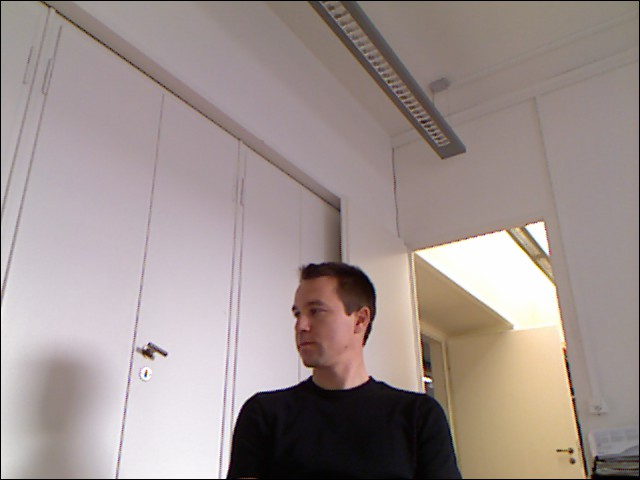deflection: (238, 268, 433, 449)
